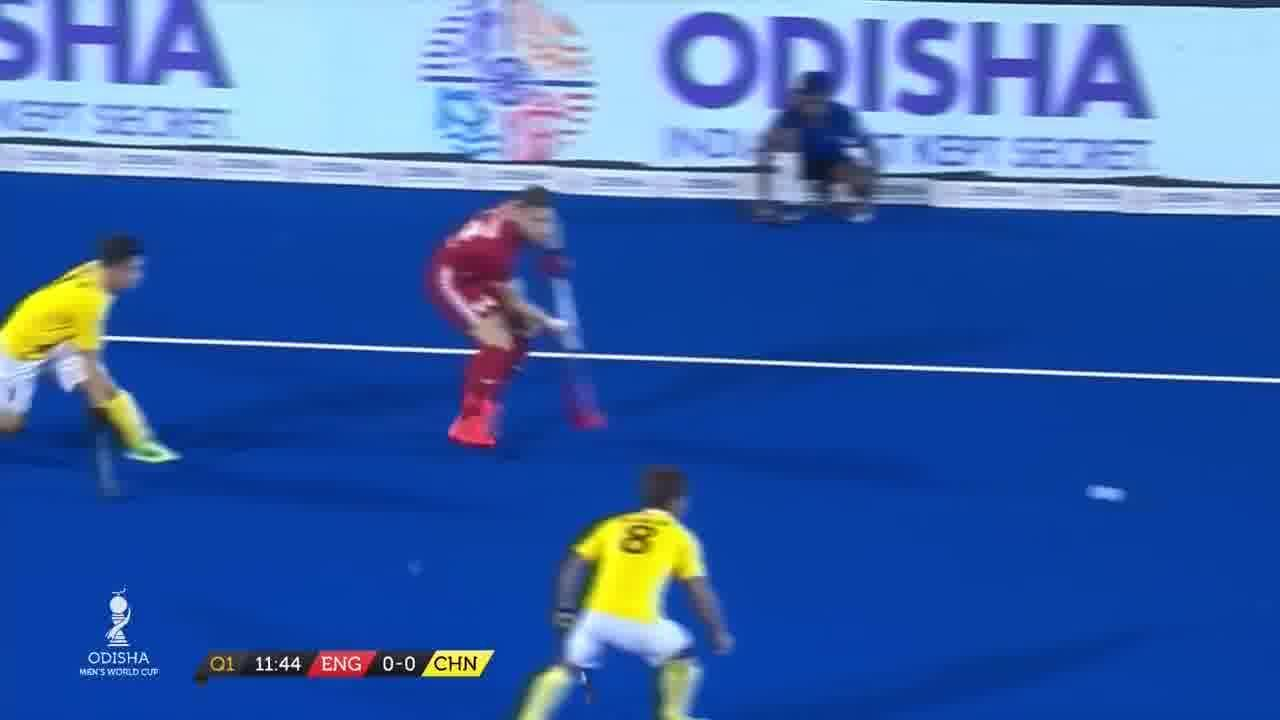ball: (1081, 479, 1127, 509)
